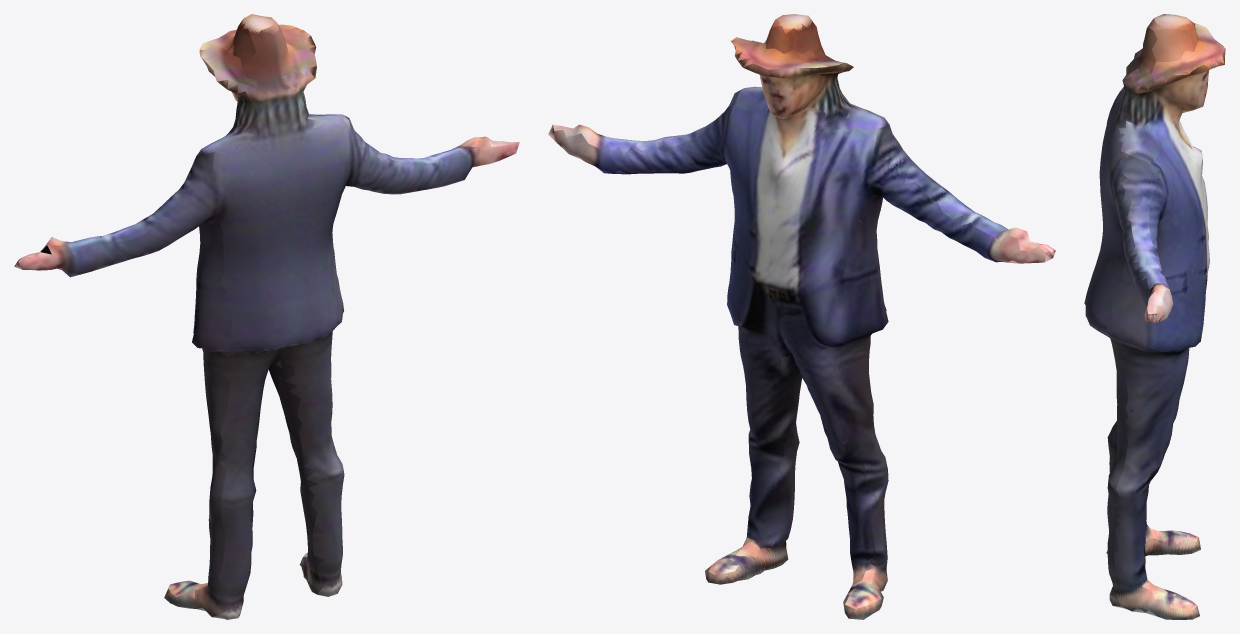
3 renders of one model, left to right at view 1: azimuth 30°, elevation 25°; view 2: azimuth 150°, elevation 25°; view 3: azimuth 270°, elevation 25°, orthographic.
Visible parts, largest first — view 1: world; view 2: world; view 3: world.
Boxes of the visible parts, x1,y1,x2,y2 form: world: (14, 14, 519, 619); world: (548, 14, 1055, 619); world: (1084, 14, 1225, 619).
Bounding box in the file's own units: 0.9278 × 1 × 0.2267.
Materials: 1 (1 with a texture image).
